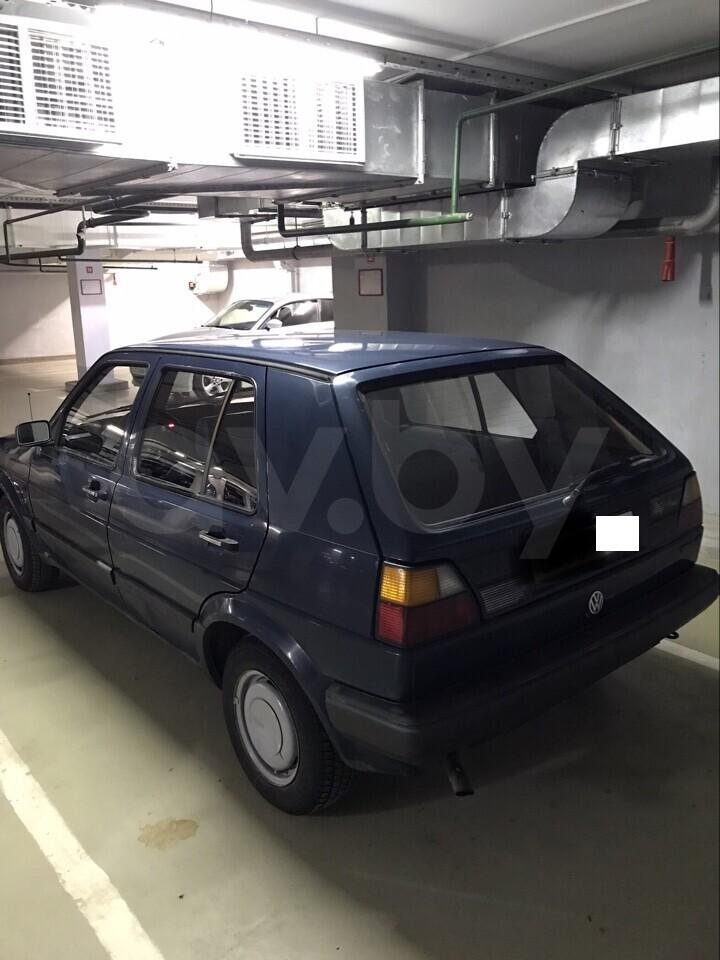Golf_1983-1992: (0, 324, 720, 800)
